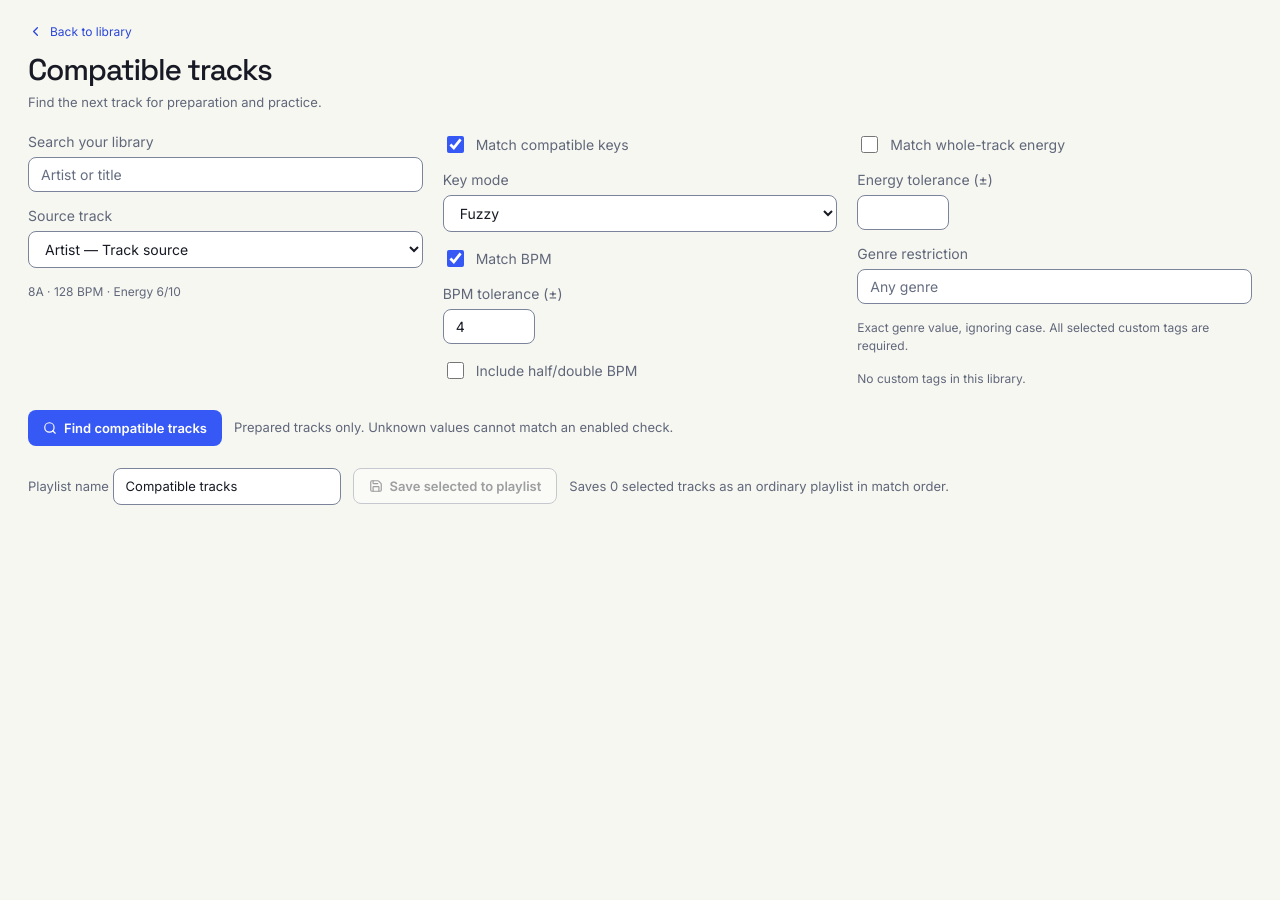
Test: Compatible tracks › uses saved key mode and explicit defaults, then shows reasons and unknown measurements
Expected: the dropdown labelled "Key mode" shows "Fuzzy", x1=443 y1=194 x2=837 y2=232
Click the button "Find compatible tracks" at point(125, 428), box x1=28 y1=410 x2=222 y2=446
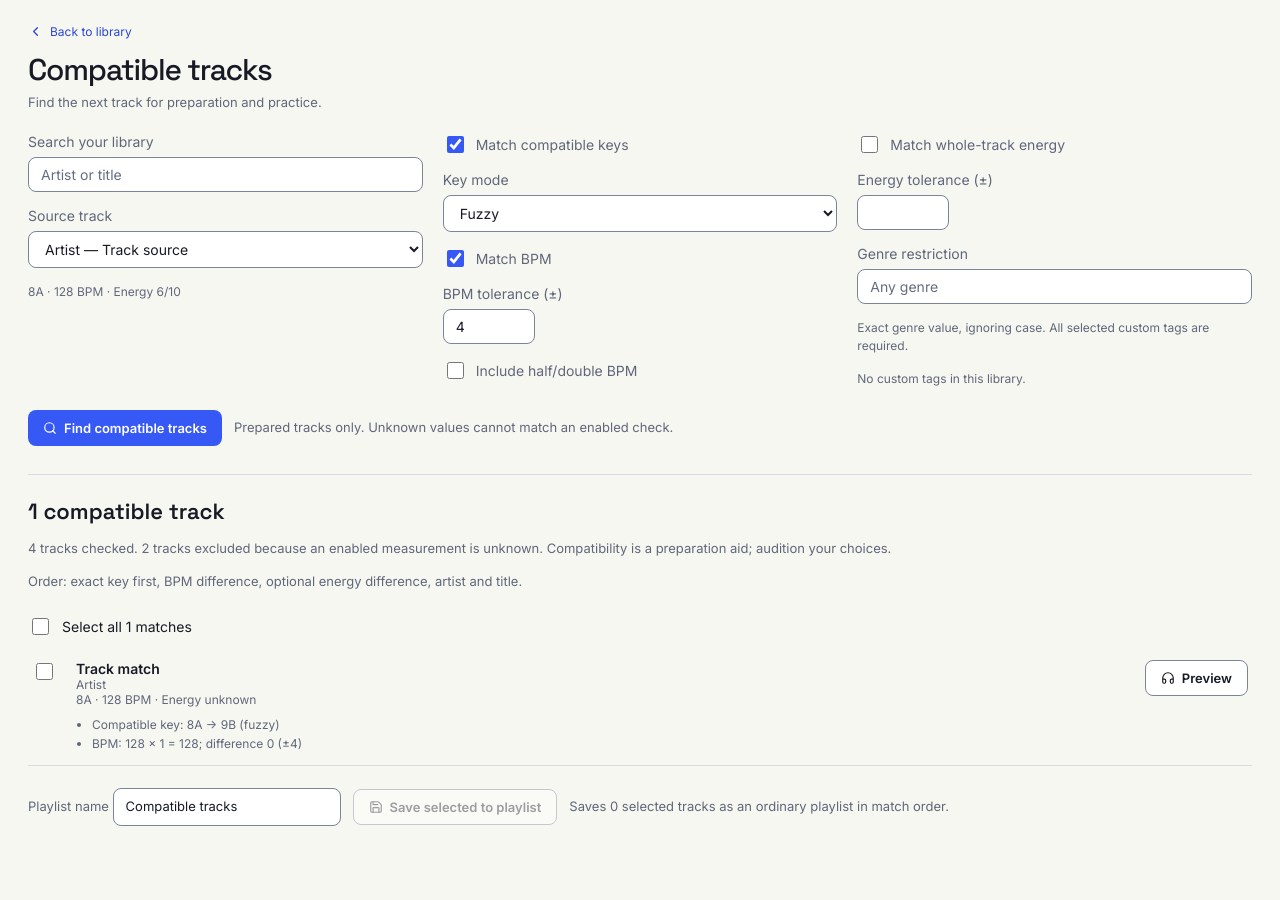
Expected: the list item "Compatible key: 8A → 9B (fuzzy)" is shown, x1=92 y1=717 x2=280 y2=732
Expected: the text "Energy unknown" is shown, x1=162 y1=692 x2=256 y2=707
Expected: the text "2 tracks excluded" is shown, x1=28 y1=540 x2=891 y2=556
